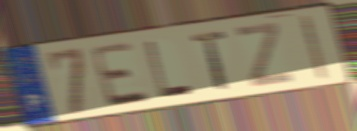7: (42, 45, 87, 117)
E: (88, 39, 153, 110)
I: (298, 13, 331, 84)
L: (142, 38, 195, 100)
T: (189, 28, 231, 92)
Z: (233, 20, 295, 90)
